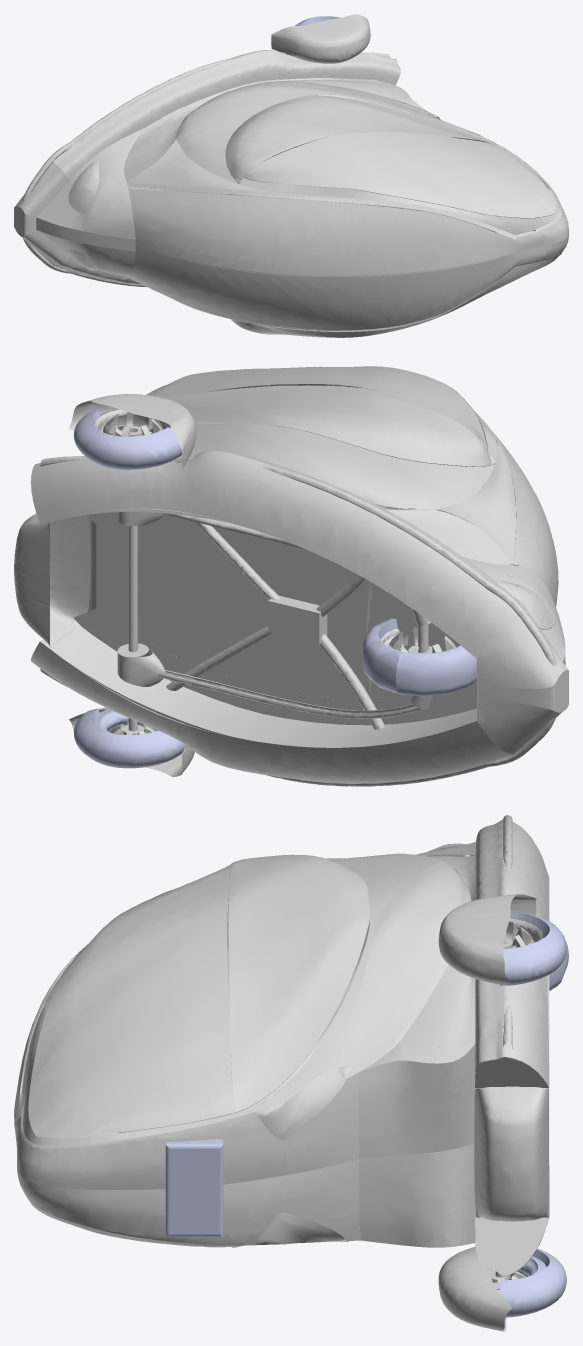
3 views of the same model, one above another, from view 1: azimuth 30°, elevation 25°; view 2: azimuth 150°, elevation 25°; view 3: azimuth 270°, elevation 25° (orthographic). The views are drawn at different scales.
Visible parts, largest first — view 1: Open CASCADE STEP translator 7.3 1.71.step.STEP.STEP, Open CASCADE STEP translator 7.3 1.70.step.STEP.STEP, Open CASCADE STEP translator 7.3 1.43.step.STEP.STEP, Open CASCADE STEP translator 7.3 1.649.step.STEP.STEP, Open CASCADE STEP translator 7.3 1.45.step.STEP.STEP, Open CASCADE STEP translator 7.3 1.57.step.STEP.STEP, Open CASCADE STEP translator 7.3 1.86.step.STEP.STEP, Open CASCADE STEP translator 7.3 1.63.step.STEP.STEP, Open CASCADE STEP translator 7.3 1.77.step.STEP.STEP, Open CASCADE STEP translator 7.3 1.61.step.STEP.STEP, Open CASCADE STEP translator 7.3 1.69.step.STEP.STEP, Open CASCADE STEP translator 7.3 1.55.step.STEP.STEP (+22 smaller); view 2: Open CASCADE STEP translator 7.3 1.81.step.STEP.STEP, Open CASCADE STEP translator 7.3 1.649.step.STEP.STEP, Open CASCADE STEP translator 7.3 1.648.step.STEP.STEP, Open CASCADE STEP translator 7.3 1.45.step.STEP.STEP, Open CASCADE STEP translator 7.3 1.82.step.STEP.STEP, Open CASCADE STEP translator 7.3 1.650.step.STEP.STEP, Open CASCADE STEP translator 7.3 1.11.step.STEP.STEP, Open CASCADE STEP translator 7.3 1.83.step.STEP.STEP, Open CASCADE STEP translator 7.3 1.43.step.STEP.STEP, Open CASCADE STEP translator 7.3 1.57.step.STEP.STEP, (Unsaved)-0.STEP, Open CASCADE STEP translator 7.3 1.55.step.STEP.STEP (+28 smaller); view 3: Open CASCADE STEP translator 7.3 1.43.step.STEP.STEP, Open CASCADE STEP translator 7.3 1.45.step.STEP.STEP, Open CASCADE STEP translator 7.3 1.39.1.step.STEP.STEP, Open CASCADE STEP translator 7.3 1.38.1.step.STEP.STEP, Open CASCADE STEP translator 7.3 1.55.step.STEP.STEP, Open CASCADE STEP translator 7.3 1.36.step.STEP.STEP, Open CASCADE STEP translator 7.3 1.37.step.STEP.STEP, Open CASCADE STEP translator 7.3 1.649.step.STEP.STEP, Open CASCADE STEP translator 7.3 1.11.step.STEP.STEP, (Unsaved).STEP, Open CASCADE STEP translator 7.3 1.86.step.STEP.STEP, Open CASCADE STEP translator 7.3 1.63.step.STEP.STEP (+15 smaller).
Part boxes in pixels (bbox=[...]): Open CASCADE STEP translator 7.3 1.71.step.STEP.STEP: bbox=[128, 188, 516, 276]; Open CASCADE STEP translator 7.3 1.70.step.STEP.STEP: bbox=[128, 245, 516, 330]; Open CASCADE STEP translator 7.3 1.43.step.STEP.STEP: bbox=[245, 132, 555, 217]; Open CASCADE STEP translator 7.3 1.649.step.STEP.STEP: bbox=[53, 50, 400, 180]; Open CASCADE STEP translator 7.3 1.45.step.STEP.STEP: bbox=[225, 95, 495, 180]; Open CASCADE STEP translator 7.3 1.57.step.STEP.STEP: bbox=[176, 93, 313, 183]; Open CASCADE STEP translator 7.3 1.86.step.STEP.STEP: bbox=[271, 14, 370, 63]; Open CASCADE STEP translator 7.3 1.63.step.STEP.STEP: bbox=[124, 78, 393, 182]; Open CASCADE STEP translator 7.3 1.77.step.STEP.STEP: bbox=[83, 161, 135, 239]; Open CASCADE STEP translator 7.3 1.61.step.STEP.STEP: bbox=[127, 140, 269, 192]; Open CASCADE STEP translator 7.3 1.69.step.STEP.STEP: bbox=[127, 183, 515, 240]; Open CASCADE STEP translator 7.3 1.55.step.STEP.STEP: bbox=[198, 81, 433, 117]; Open CASCADE STEP translator 7.3 1.81.step.STEP.STEP: bbox=[96, 515, 460, 697]; Open CASCADE STEP translator 7.3 1.649.step.STEP.STEP: bbox=[30, 450, 523, 658]; Open CASCADE STEP translator 7.3 1.648.step.STEP.STEP: bbox=[31, 641, 512, 782]; Open CASCADE STEP translator 7.3 1.45.step.STEP.STEP: bbox=[164, 385, 491, 466]; Open CASCADE STEP translator 7.3 1.82.step.STEP.STEP: bbox=[96, 515, 459, 697]; Open CASCADE STEP translator 7.3 1.650.step.STEP.STEP: bbox=[40, 619, 476, 747]; Open CASCADE STEP translator 7.3 1.11.step.STEP.STEP: bbox=[14, 514, 90, 647]; Open CASCADE STEP translator 7.3 1.83.step.STEP.STEP: bbox=[73, 608, 476, 725]; Open CASCADE STEP translator 7.3 1.43.step.STEP.STEP: bbox=[150, 366, 487, 449]; Open CASCADE STEP translator 7.3 1.57.step.STEP.STEP: bbox=[269, 425, 494, 509]; (Unsaved)-0.STEP: bbox=[361, 618, 476, 696]; Open CASCADE STEP translator 7.3 1.55.step.STEP.STEP: bbox=[180, 424, 374, 503]; Open CASCADE STEP translator 7.3 1.43.step.STEP.STEP: bbox=[28, 865, 235, 1137]; Open CASCADE STEP translator 7.3 1.45.step.STEP.STEP: bbox=[228, 854, 369, 1112]; Open CASCADE STEP translator 7.3 1.39.1.step.STEP.STEP: bbox=[17, 1071, 360, 1189]; Open CASCADE STEP translator 7.3 1.38.1.step.STEP.STEP: bbox=[17, 1159, 360, 1245]; Open CASCADE STEP translator 7.3 1.55.step.STEP.STEP: bbox=[337, 861, 465, 1079]; Open CASCADE STEP translator 7.3 1.36.step.STEP.STEP: bbox=[359, 1143, 476, 1247]; Open CASCADE STEP translator 7.3 1.37.step.STEP.STEP: bbox=[359, 1044, 475, 1158]; Open CASCADE STEP translator 7.3 1.649.step.STEP.STEP: bbox=[475, 819, 549, 1087]; Open CASCADE STEP translator 7.3 1.11.step.STEP.STEP: bbox=[474, 1086, 548, 1221]; (Unsaved).STEP: bbox=[165, 1139, 223, 1236]; Open CASCADE STEP translator 7.3 1.86.step.STEP.STEP: bbox=[438, 894, 536, 985]; Open CASCADE STEP translator 7.3 1.63.step.STEP.STEP: bbox=[401, 855, 475, 1047].
Size of the model in its own units: 1921 by 1121 by 1444.
